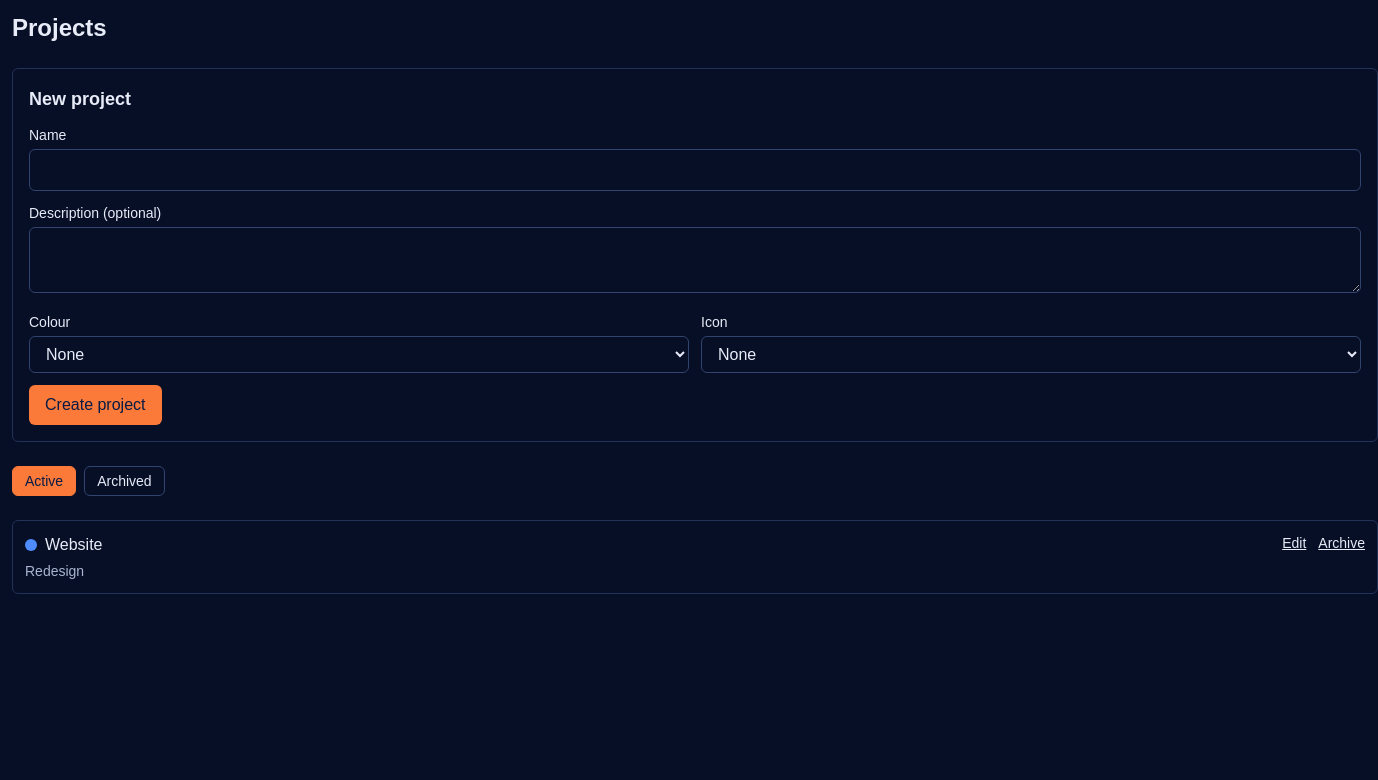
ProjectsView › lists projects, creates one, and archives one (it leaves the active list)
Check: the text "Website" is shown, box 45,533 -> 102,557
Type "Mobile" into the field labelled "Name" at (695, 170), box 29,149 -> 1361,191
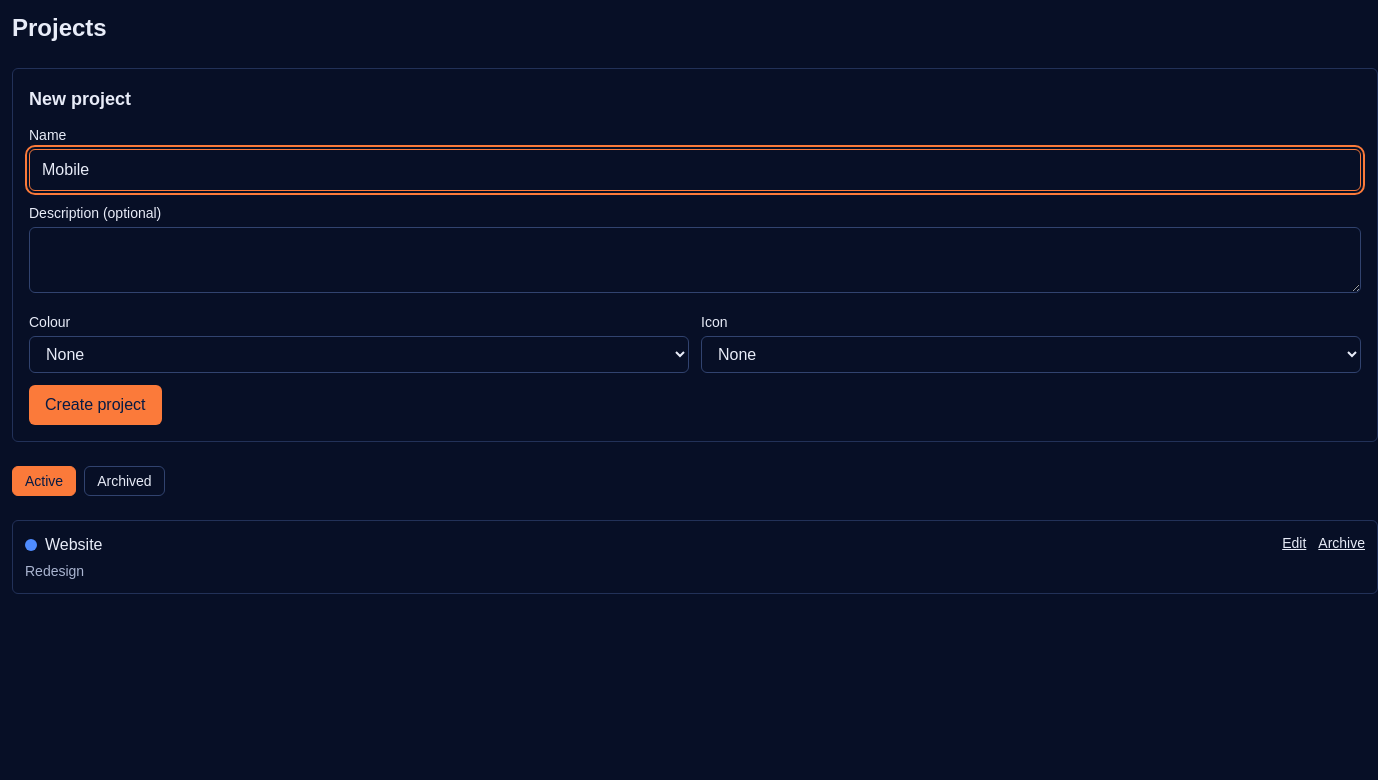
Click the button "Create project" at (95, 405), box 29,385 -> 162,425
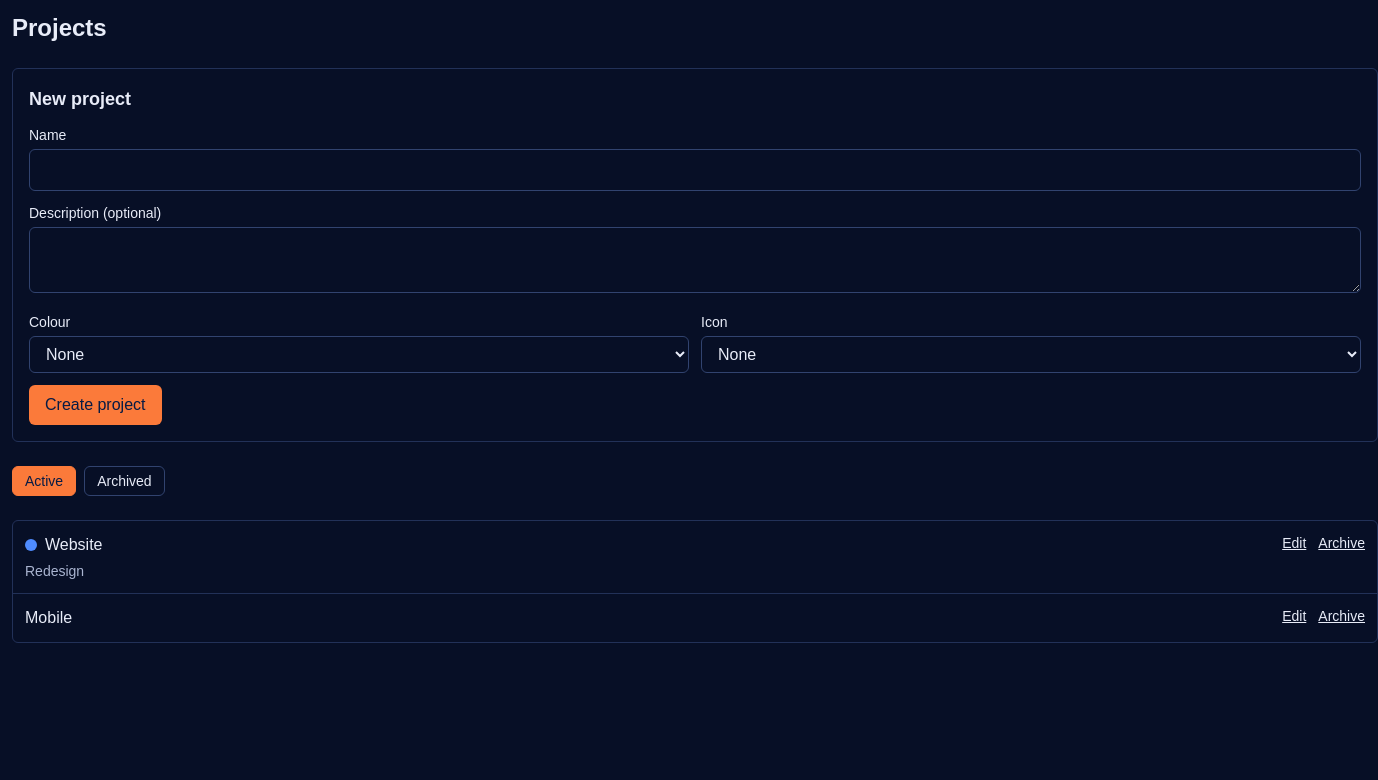
Check: the text "Mobile" is shown, box 25,606 -> 72,630
Click the button "Archive" in the row of "Website" at (1342, 543), box 1318,533 -> 1365,553
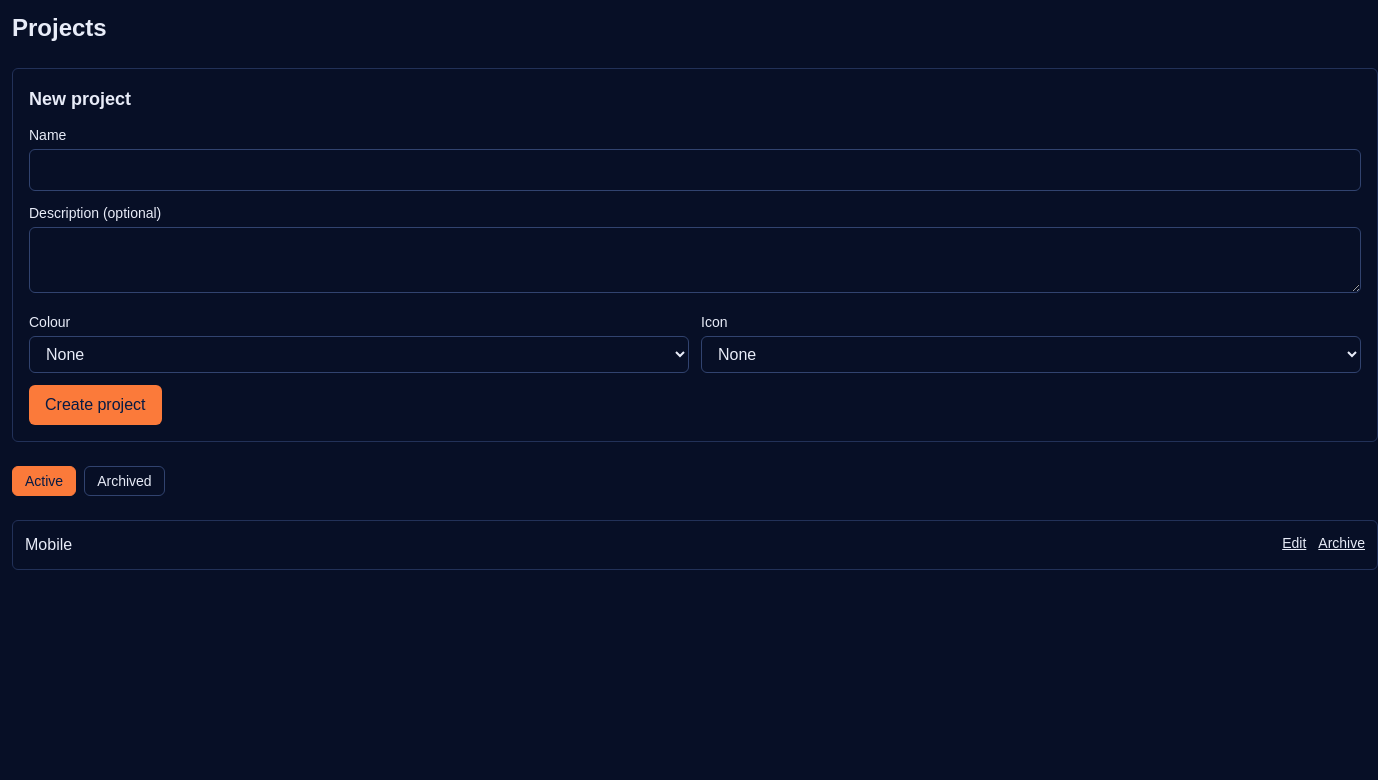
Check: the text "Mobile" is shown, box 25,533 -> 72,557
Check: the text "Website" is gone
